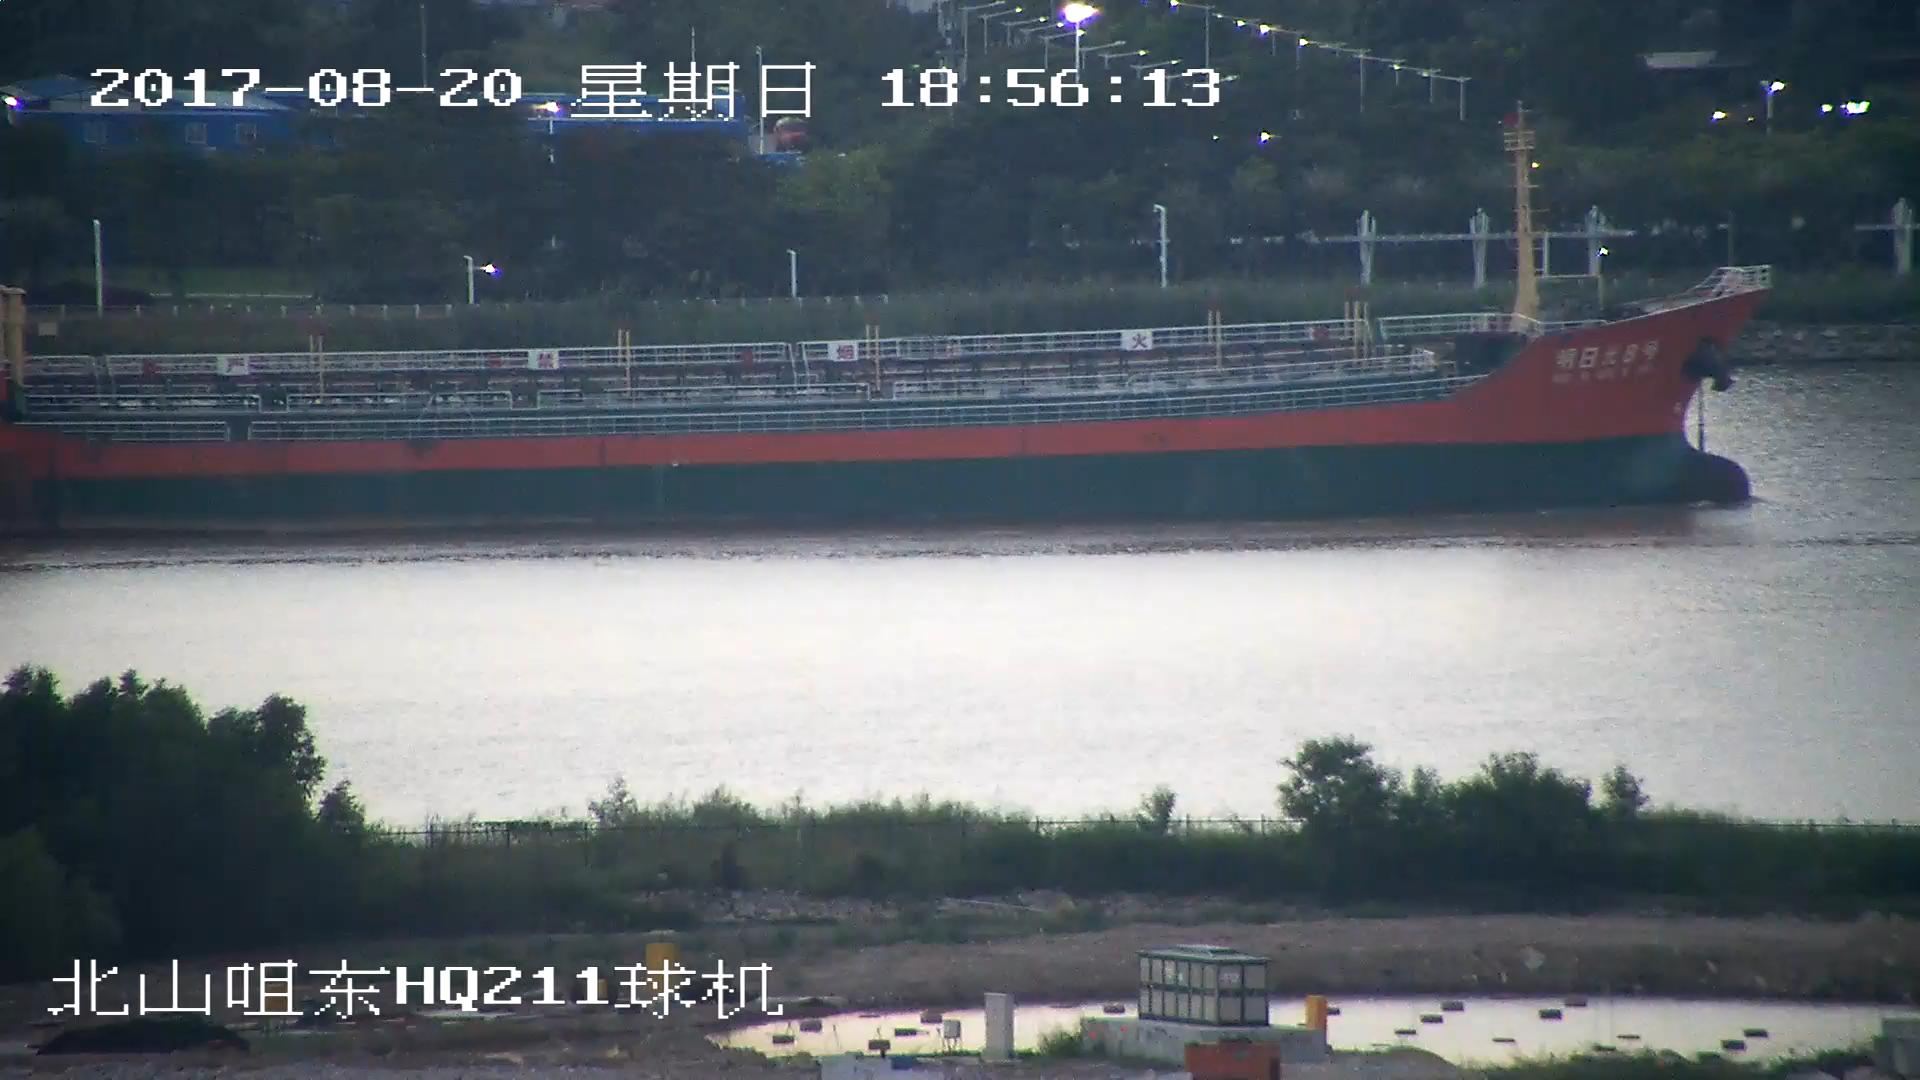general cargo ship: (1, 117, 1783, 522)
